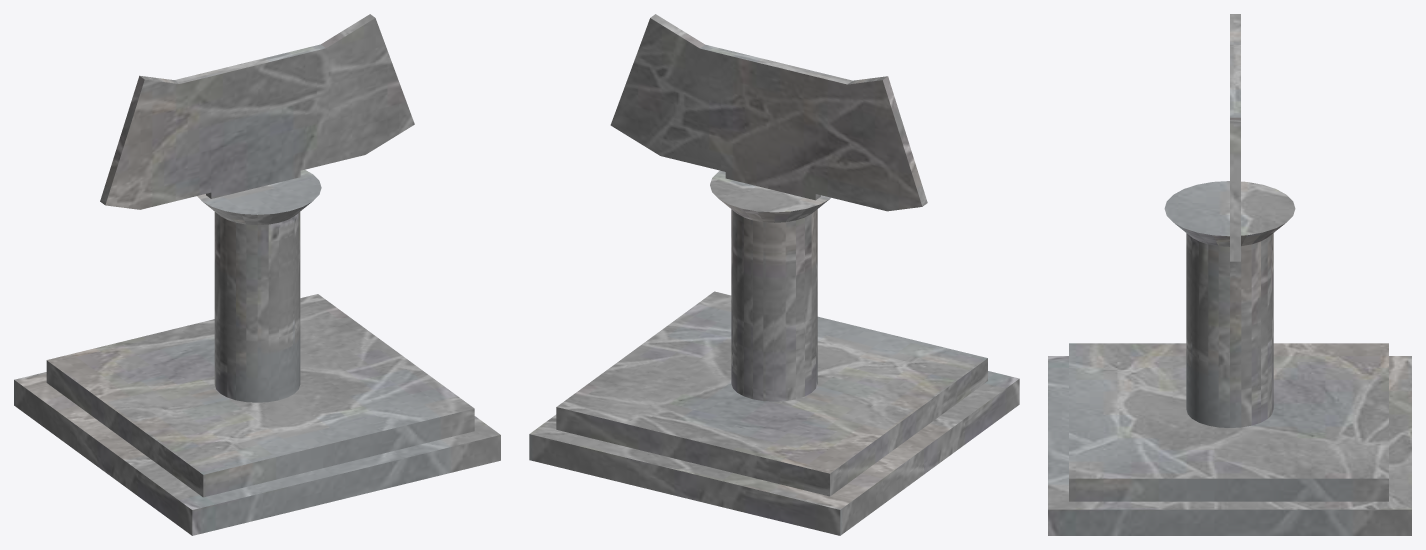
File: building.fbx
The picture shows the model from 3 angles, left to right: view 1: azimuth 30°, elevation 25°; view 2: azimuth 150°, elevation 25°; view 3: azimuth 270°, elevation 25°; orthographic projection. The views are drawn at different scales.
Visible parts, largest first — view 1: Socle1, Radar1; view 2: Socle1, Radar1; view 3: Socle1, Radar1.
Boxes of the visible parts, x1,y1,x2,y2 form: Socle1: [14, 294, 500, 535]; Radar1: [100, 14, 414, 402]; Socle1: [529, 291, 1019, 535]; Radar1: [610, 14, 927, 401]; Socle1: [1048, 343, 1411, 535]; Radar1: [1164, 14, 1295, 427].
Bounding box in the file's own units: 39.77 × 47.12 × 39.37.
